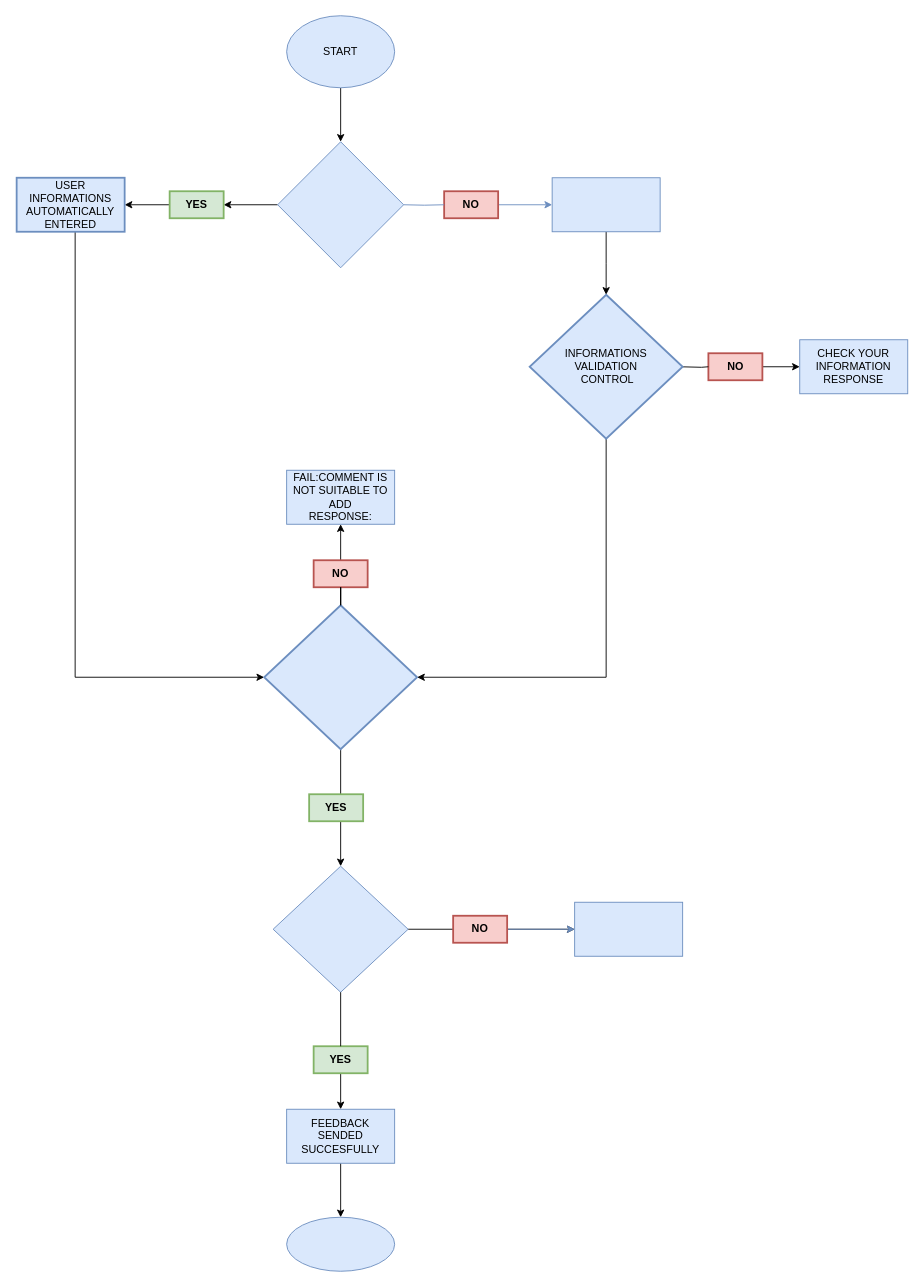
Some shapes in this 923 by 1287 pixel diagram are drawn without their labels. Here are the shapes that lost their labels. From the top down, the centre of each, then its label:
the point at 340,204: AUTHENTICATION CHECK
the point at 605,204: ANONYMOUS USER INFORMATIONS REQUIRED
the point at 340,677: FEEDBACK APPROPRIATENESS CHECK
the point at 340,928: IS FEEDBACK ADDED TO DATABASE SUCCESSFULLY
the point at 628,928: ERROR OCCURED RESPONSE
the point at 340,1243: FINISH
